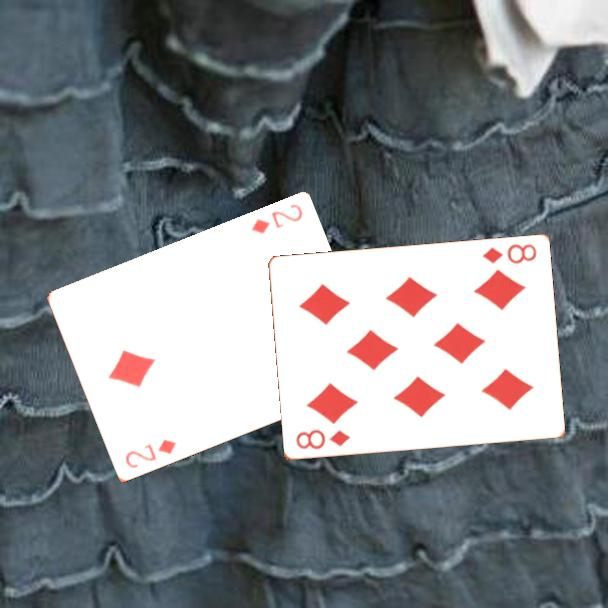d02: (121, 436, 179, 472), (247, 201, 305, 237)
d08: (292, 426, 353, 452), (478, 241, 539, 267)
